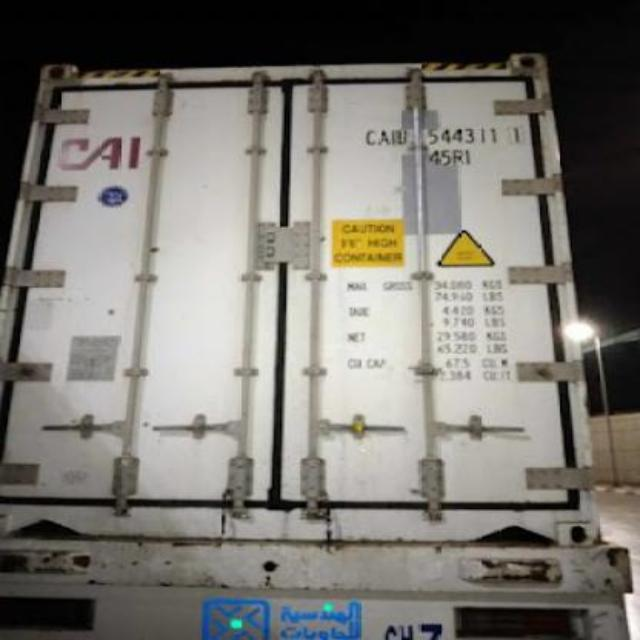1: (506, 121, 522, 142), (486, 122, 498, 146), (474, 122, 486, 144)
3: (464, 124, 478, 146)
4: (451, 122, 464, 144), (438, 121, 450, 142)
5: (426, 125, 438, 146)
A: (376, 122, 388, 148)
C: (364, 122, 378, 146)
I: (388, 122, 398, 146)
U: (394, 125, 408, 149)
